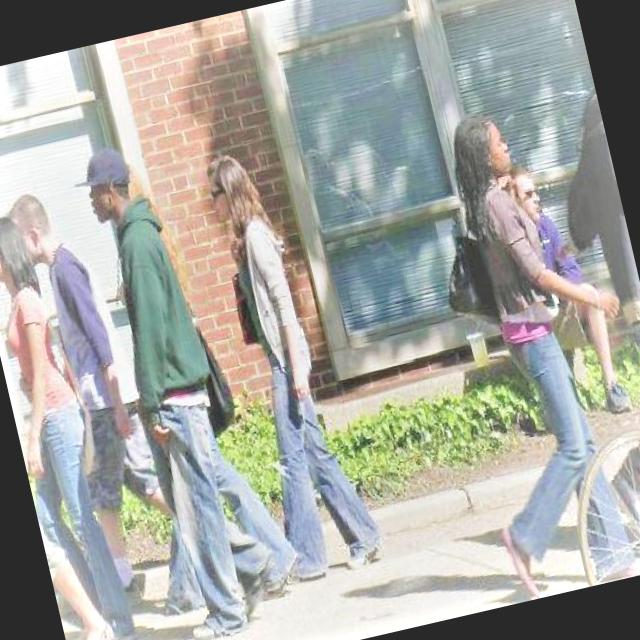Person: (407, 86, 640, 601), (78, 133, 282, 640), (191, 128, 390, 584), (6, 170, 195, 612), (0, 203, 149, 640)
